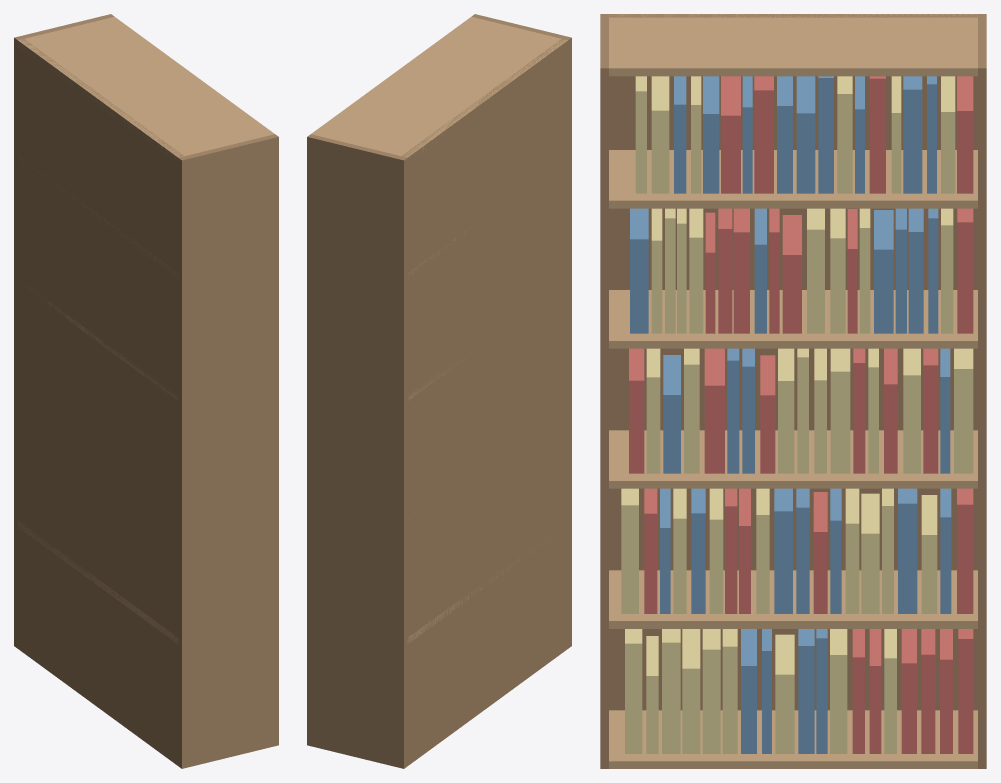
The model's file is bookshelf.glb.
3 renders of one model, left to right at view 1: azimuth 30°, elevation 25°; view 2: azimuth 150°, elevation 25°; view 3: azimuth 270°, elevation 25°, orthographic. The views are drawn at different scales.
Bounding box in the file's own units: 0.3 × 1.8 × 0.9.
